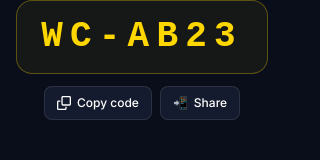
RoomCodeDisplay › shows 'Copied!' feedback after clicking copy
The width and height of the screenshot is (320, 160).
Click the button with aria-label "copy room code" at (98, 103), box [44,86,152,120]
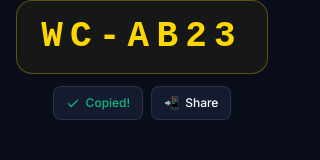
expect the text "Copied!" is shown: met, box [86,95,130,111]
